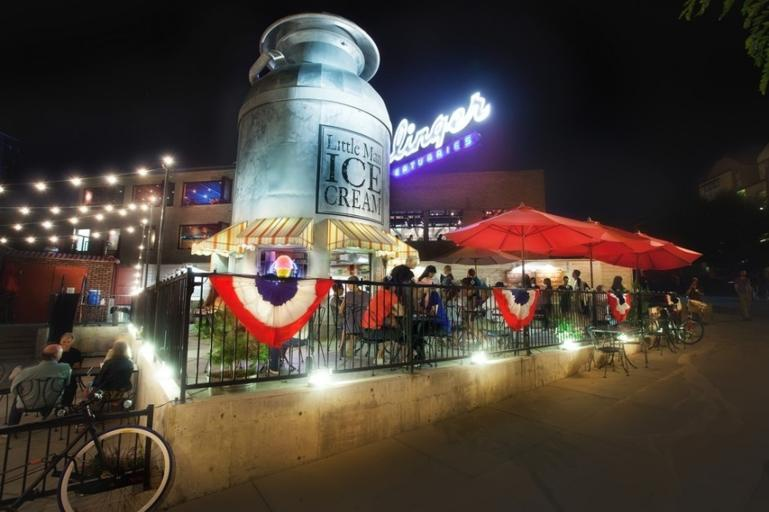non-vehicle: (0, 389, 175, 511), (635, 292, 704, 350)
